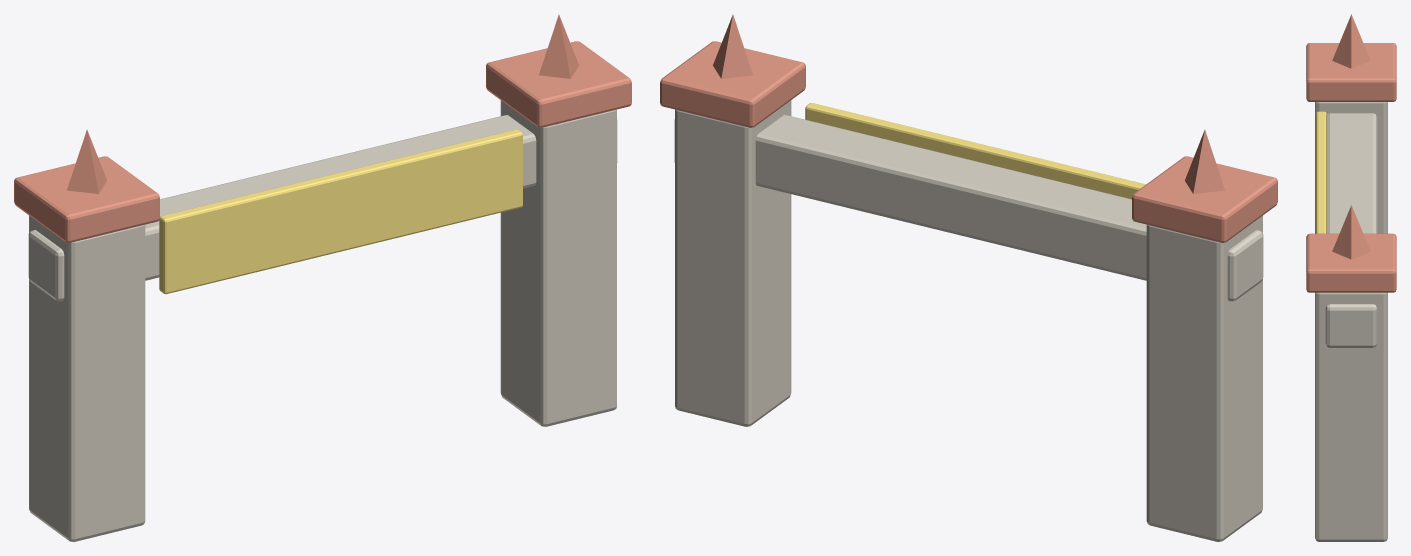
Rendered from arch.glb.
3 views of the same model, side by side, from view 1: azimuth 30°, elevation 25°; view 2: azimuth 150°, elevation 25°; view 3: azimuth 270°, elevation 25° (orthographic). The views are drawn at different scales.
Parts seen in each view (by area): view 1: arch; view 2: arch; view 3: arch.
Boxes of the visible parts, x1,y1,x2,y2 form: arch: (14, 14, 631, 541); arch: (660, 14, 1277, 541); arch: (1306, 14, 1396, 541).
Size of the model in its own units: 25.2 by 16.6 by 4.2.
